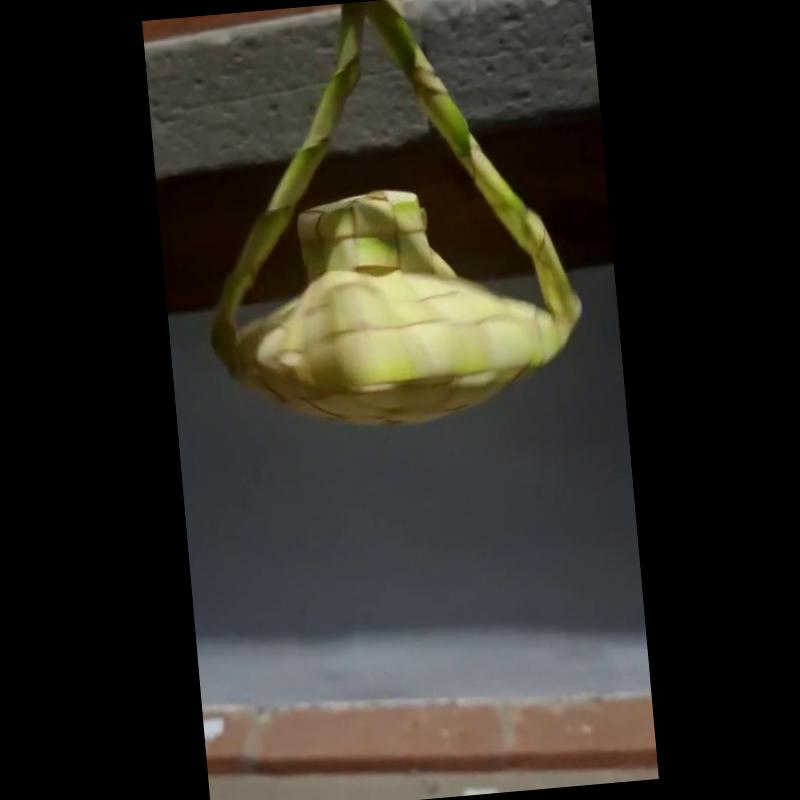Tipat Gong: (213, 0, 582, 429)
